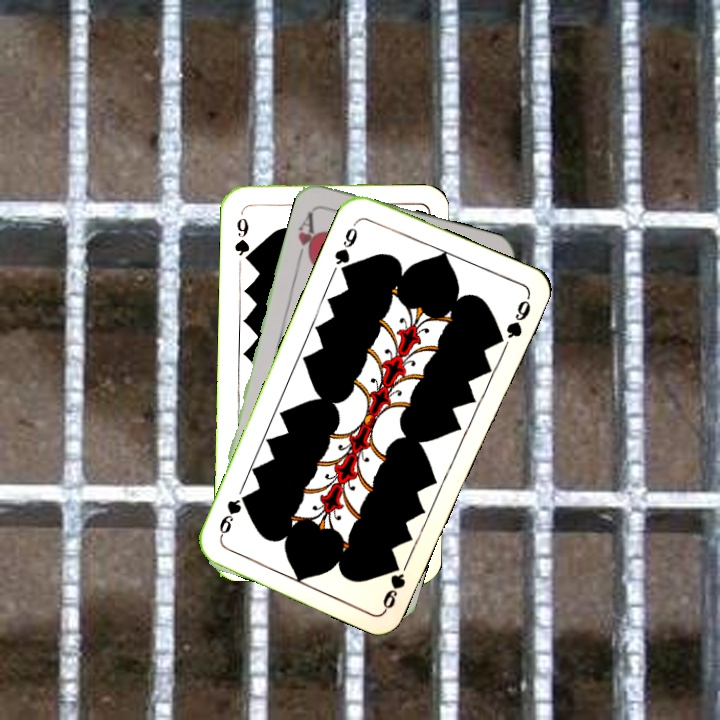G9: (379, 556, 412, 612), (330, 218, 361, 277), (230, 214, 253, 265)
HA: (293, 207, 321, 265)
